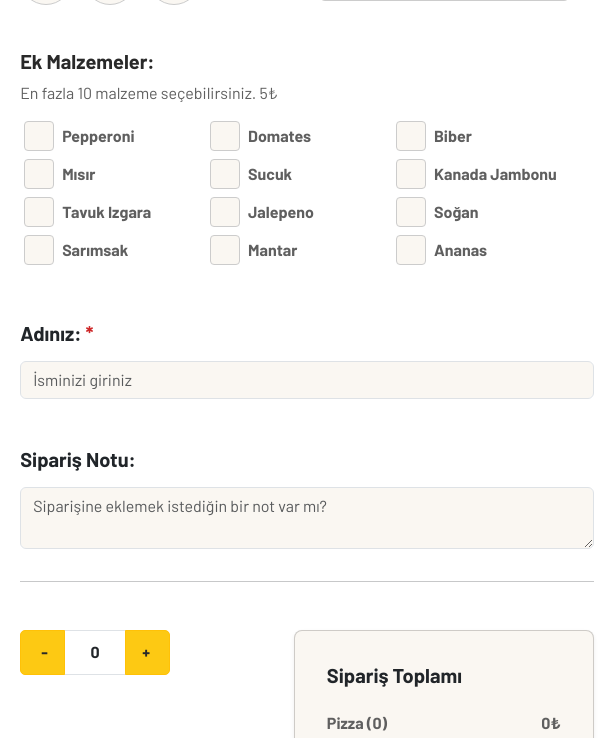
Pizza Sipariş Formu Testleri › İsim 3 karakterden az olduğunda hata mesajı veriyor mu?
The image size is (615, 738).
(page scrolled)
Type "me" into the field named "isim" at (307, 380), box top-left (20, 361), bottom-right (594, 399)
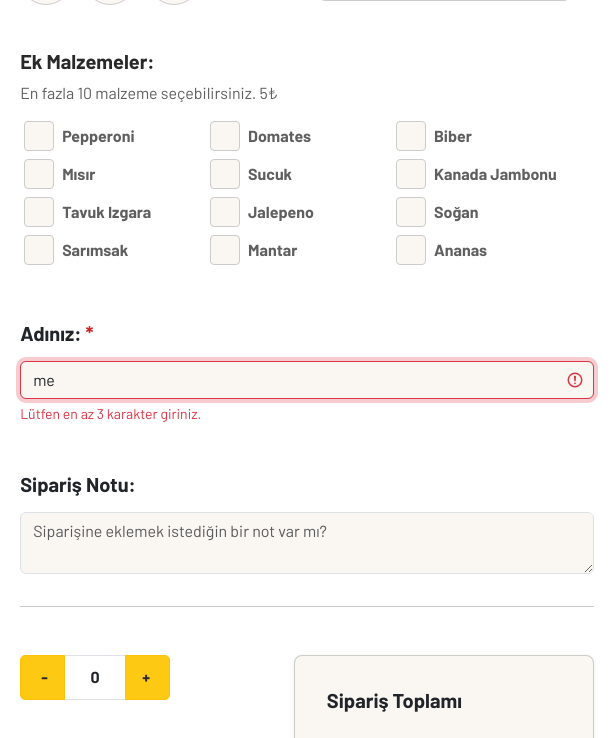
Check: the text "Lütfen en az 3 karakter giriniz." is shown, box top-left (20, 405), bottom-right (201, 422)
